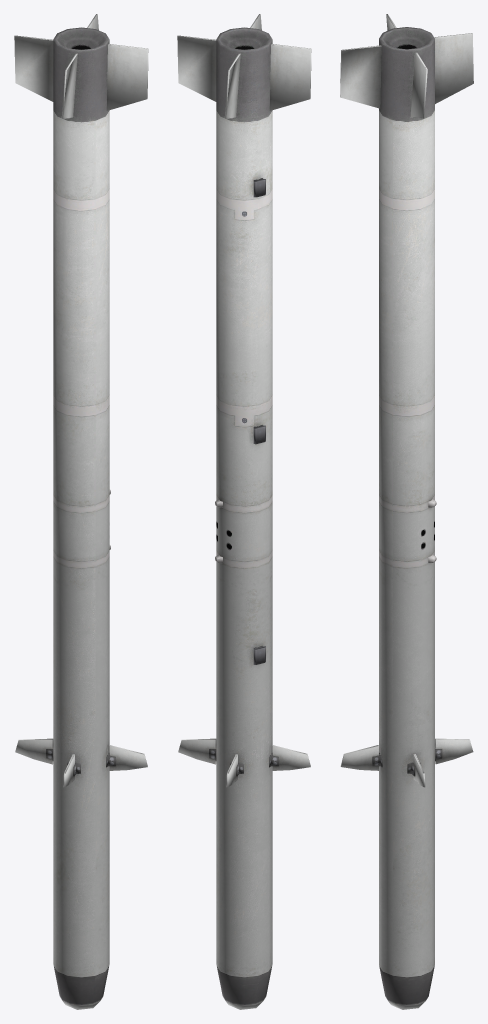
3 views of the same model, side by side, from view 1: azimuth 30°, elevation 25°; view 2: azimuth 210°, elevation 25°; view 3: azimuth 330°, elevation 25° (orthographic).
Visible parts, largest first — view 1: TY-90; view 2: TY-90; view 3: TY-90.
Boxes of the visible parts, bbox=[...] form: TY-90: bbox=[14, 14, 148, 1009]; TY-90: bbox=[177, 14, 311, 1009]; TY-90: bbox=[340, 14, 473, 1009].
Bounding box in the file's own units: 0.2281 × 2.4 × 0.2281.
Materials: 1 (1 with a texture image).
